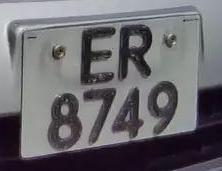4: (111, 82, 146, 141)
7: (82, 84, 118, 146)
8: (44, 87, 85, 151)
9: (143, 78, 184, 139)
E: (76, 23, 116, 87)
R: (114, 20, 158, 84)
